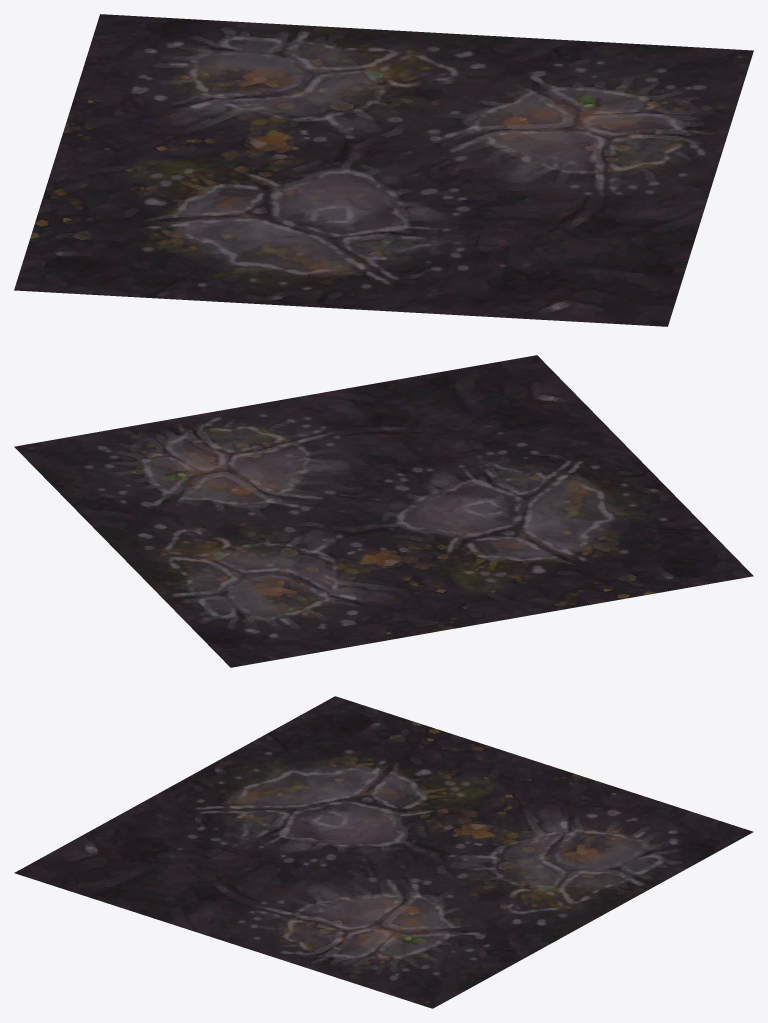
Rendered from cave_floor_mushrooms_21.fbx.
The picture shows the model from 3 angles, top to bottom: view 1: azimuth 30°, elevation 25°; view 2: azimuth 150°, elevation 25°; view 3: azimuth 270°, elevation 25°; orthographic projection. The views are drawn at different scales.
Visible parts, largest first — view 1: cave_tileset/Floormushrooms_03_mat; view 2: cave_tileset/Floormushrooms_03_mat; view 3: cave_tileset/Floormushrooms_03_mat.
Boxes of the visible parts, left/top/right/bottom form: cave_tileset/Floormushrooms_03_mat: left=14, top=14, right=753, bottom=326; cave_tileset/Floormushrooms_03_mat: left=14, top=355, right=753, bottom=667; cave_tileset/Floormushrooms_03_mat: left=14, top=696, right=753, bottom=1008.
Size of the model in its own units: 6.61 by 0 by 6.61.
